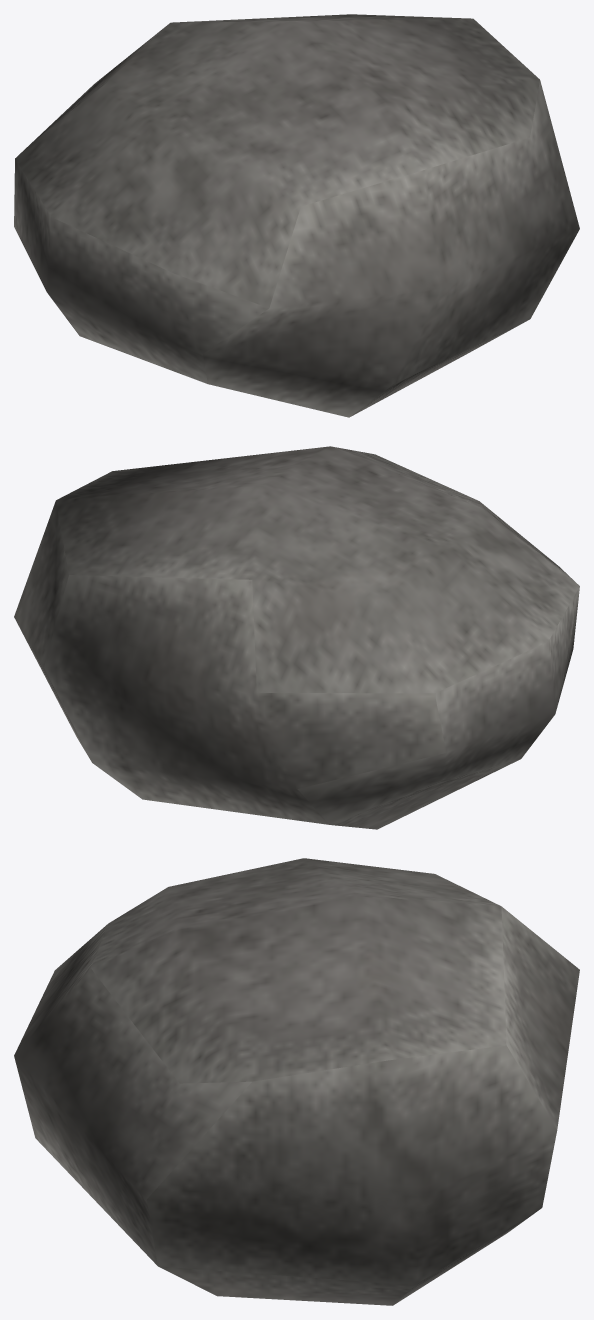
The model's file is Rock_04.fbx.
The picture shows the model from 3 angles, top to bottom: view 1: azimuth 30°, elevation 25°; view 2: azimuth 150°, elevation 25°; view 3: azimuth 270°, elevation 25°; orthographic projection. The views are drawn at different scales.
Visible parts, largest first — view 1: Rock_04; view 2: Rock_04; view 3: Rock_04.
Boxes of the visible parts, box(x1,y1,x2,y2) form: Rock_04: box(14, 14, 579, 417); Rock_04: box(14, 446, 579, 829); Rock_04: box(14, 858, 579, 1305).
Size of the model in its own units: 0.9066 by 0.5769 by 0.8306.
Materials: 1 (1 with a texture image).
